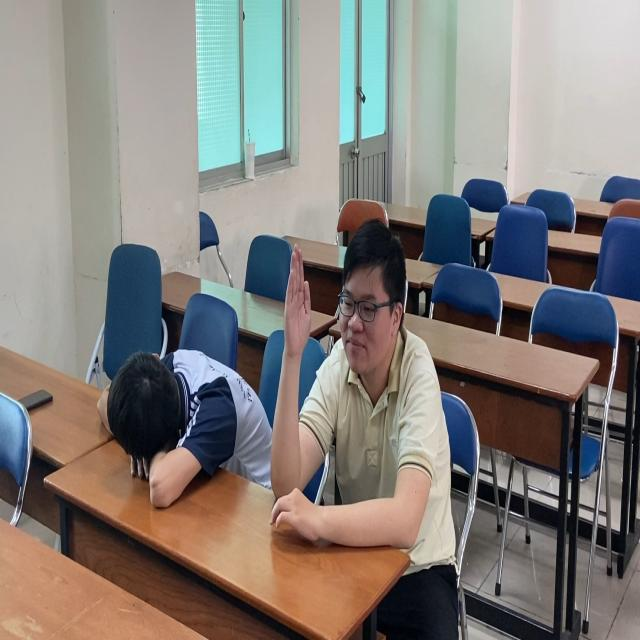raise_hand: (270, 214, 445, 568)
sleep: (96, 344, 274, 514)
